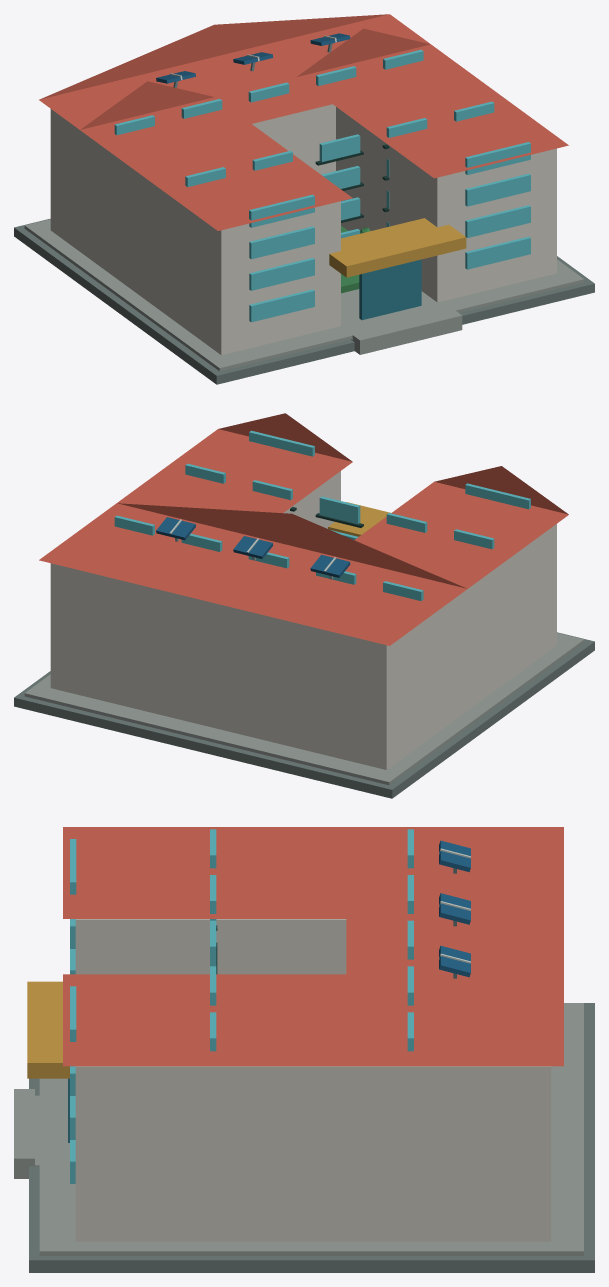
The model's file is school_lv3.glb.
3 views of the same model, one above another, from view 1: azimuth 30°, elevation 25°; view 2: azimuth 150°, elevation 25°; view 3: azimuth 270°, elevation 25° (orthographic). The views are drawn at different scales.
Parts seen in each view (by area): view 1: rough, glossy, metallic; view 2: rough, glossy, metallic; view 3: rough, glossy, metallic.
Part boxes in pixels (<box>): rough: <box>14,14,594,384</box>; glossy: <box>114,49,530,322</box>; metallic: <box>156,33,350,87</box>; rough: <box>14,413,594,798</box>; glossy: <box>114,430,530,601</box>; metallic: <box>156,517,350,579</box>; rough: <box>14,827,594,1272</box>; glossy: <box>68,829,413,1183</box>; metallic: <box>439,840,470,978</box>.
Bounding box in the file's own units: 9.8 × 4.3 × 9.34.
